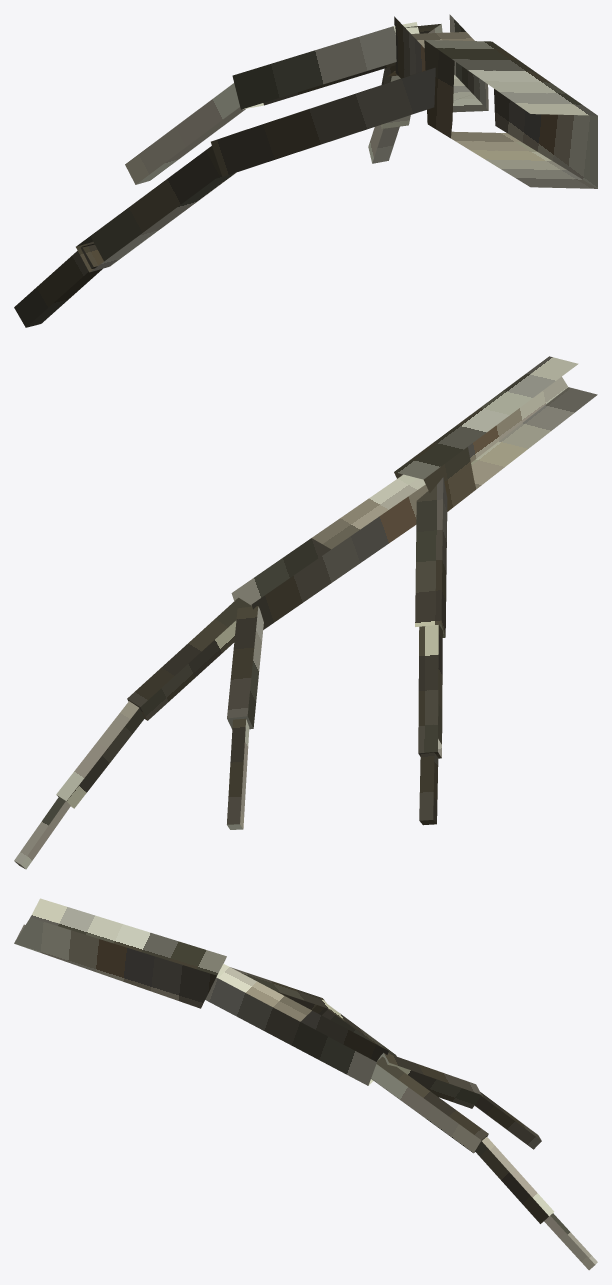
File: birch_twig_branch_down_9.obj
The picture shows the model from 3 angles, top to bottom: view 1: azimuth 30°, elevation 25°; view 2: azimuth 150°, elevation 25°; view 3: azimuth 270°, elevation 25°; orthographic projection. The views are drawn at different scales.
Parts seen in each view (by area): view 1: cube; view 2: cube; view 3: cube.
Boxes of the visible parts, bbox=[...] form: cube: bbox=[14, 14, 597, 327]; cube: bbox=[14, 356, 597, 869]; cube: bbox=[14, 898, 597, 1270].
Size of the model in its own units: 1.24 by 1.19 by 2.29.
